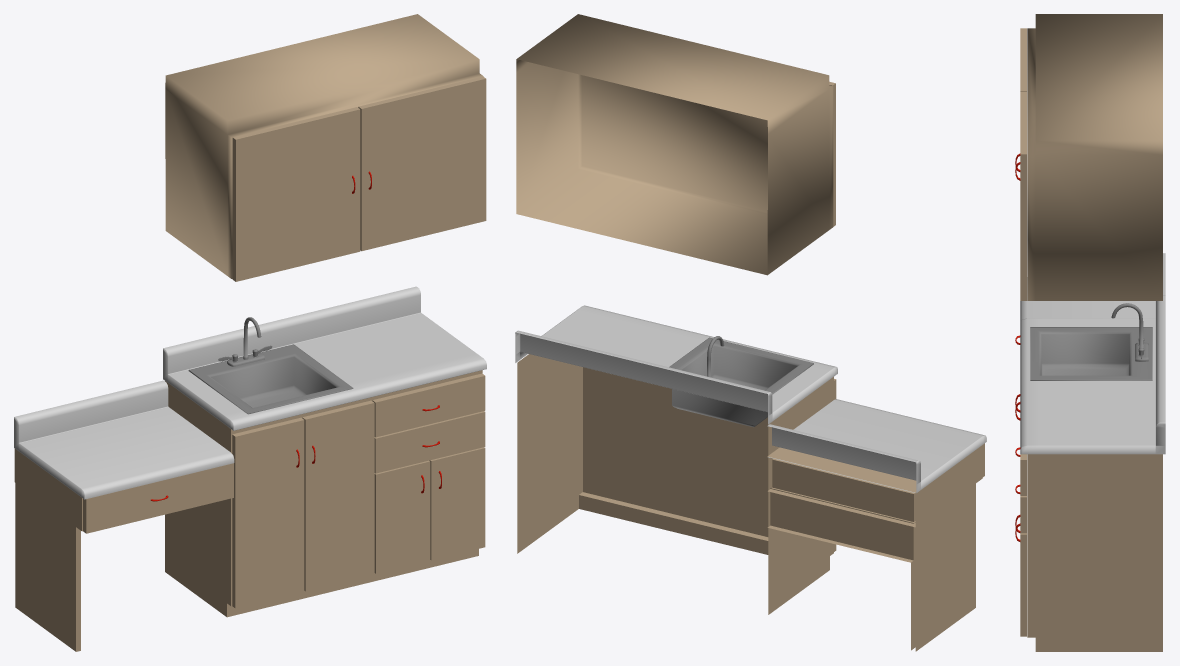
The model's file is DrCabinet.fbx.
3 renders of one model, left to right at view 1: azimuth 30°, elevation 25°; view 2: azimuth 150°, elevation 25°; view 3: azimuth 270°, elevation 25°, orthographic. The views are drawn at different scales.
Parts seen in each view (by area): view 1: Lower_CabinetBase.004; view 2: Lower_CabinetBase.004; view 3: Lower_CabinetBase.004.
Part boxes in pixels (left/top/right/bottom): Lower_CabinetBase.004: left=14, top=14, right=486, bottom=651; Lower_CabinetBase.004: left=515, top=14, right=986, bottom=651; Lower_CabinetBase.004: left=1015, top=14, right=1165, bottom=651.
Size of the model in its own units: 484 by 570 by 152.
